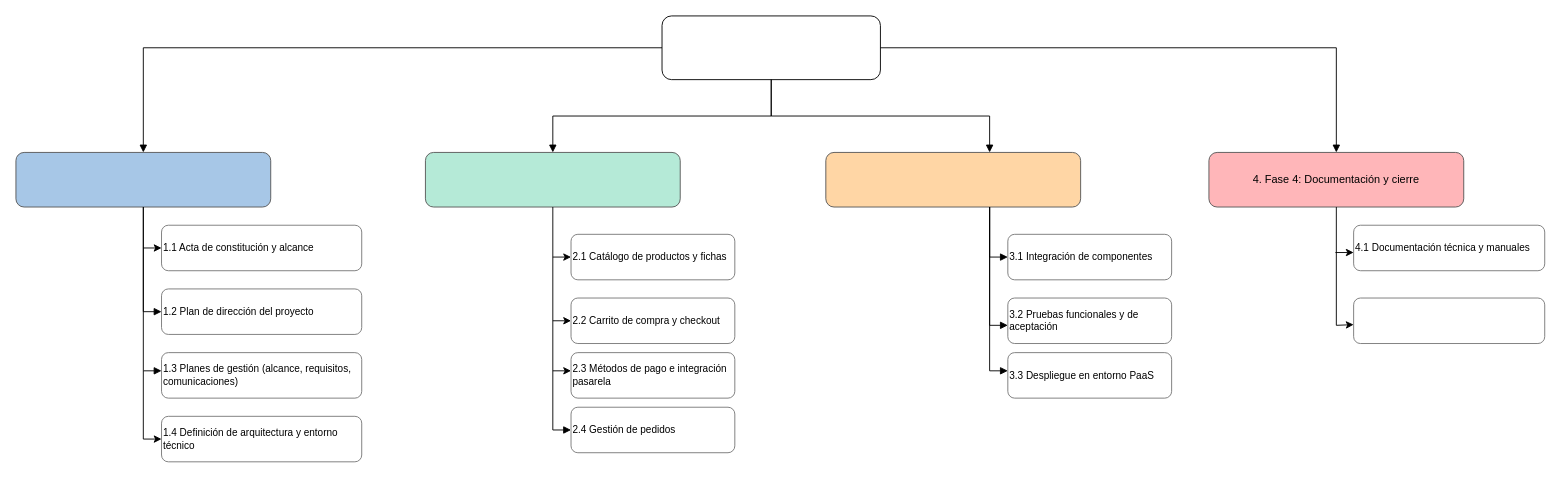
Image size: 1561x478. Some labels were removed from this diagram. Here are the shapes that lost their labels. From the top down, the box of each, then its label:
(661, 15, 880, 80): Proyecto E-CLOTHIFY
(15, 152, 271, 207): 1. Fase 1: Inicio y planificación
(425, 152, 680, 207): 2. Fase 2: Diseño y desarrollo funcional
(825, 152, 1081, 207): 3. Fase 3: Integración, pruebas y despliegue
(1353, 297, 1545, 344): 4.2 Cierre del proyecto y lecciones aprendidas
